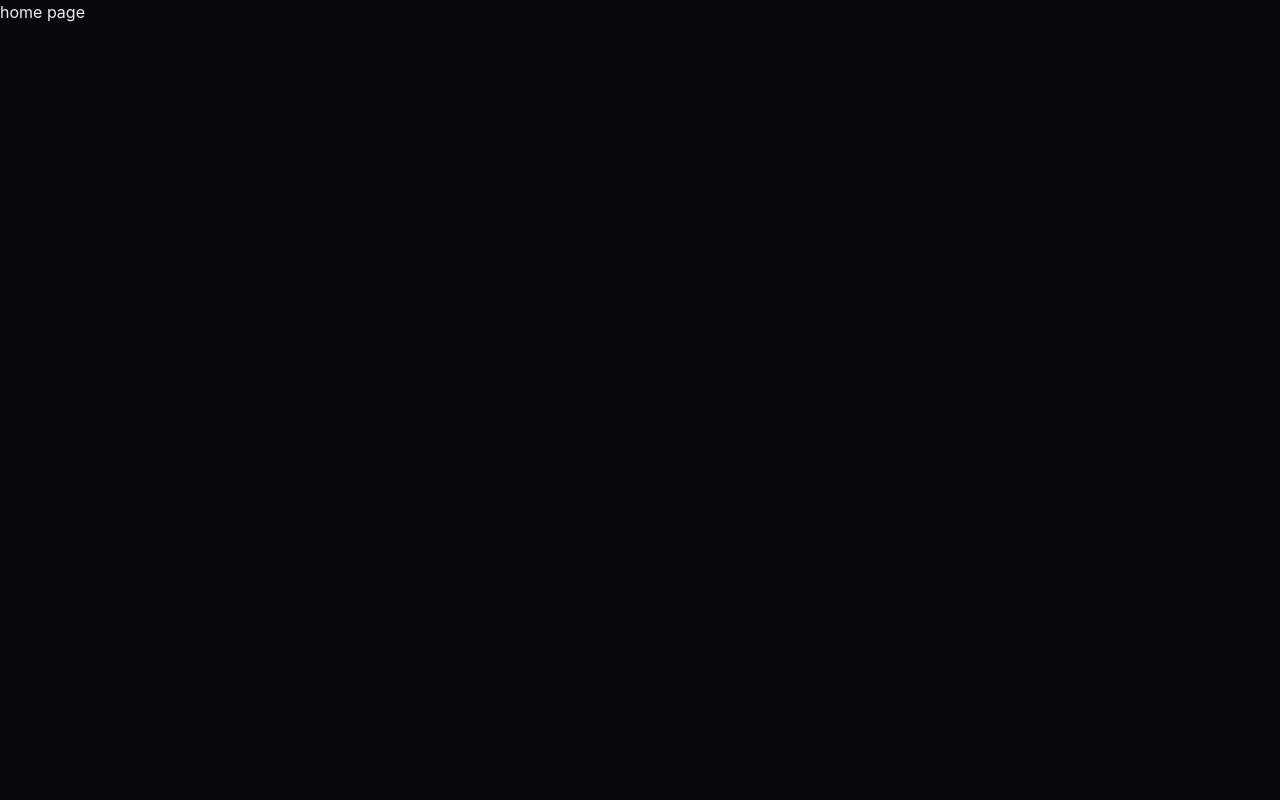
Test: CommandPalette › filters commands and navigates to the chosen page, then closes
Press k
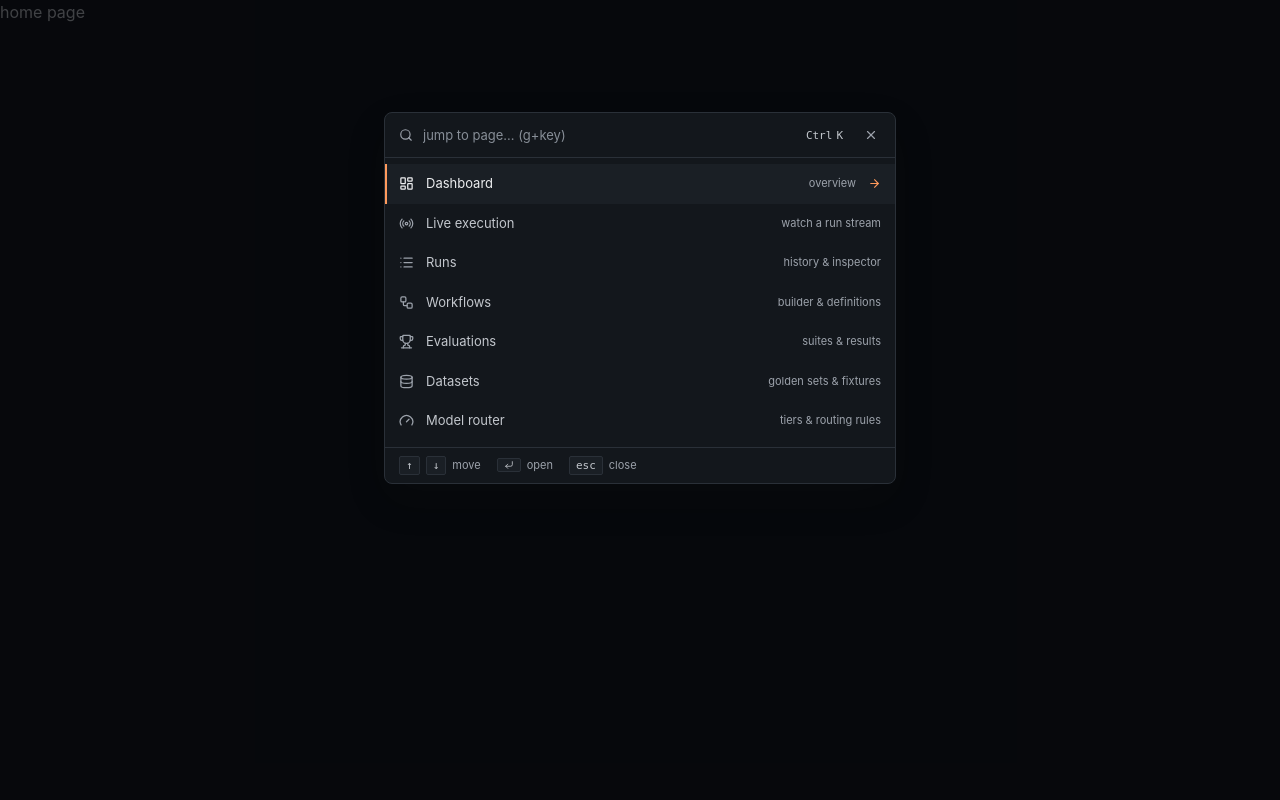
Type "workfl" into the field named "Search commands" at [609, 135], box [423,113,796,157]
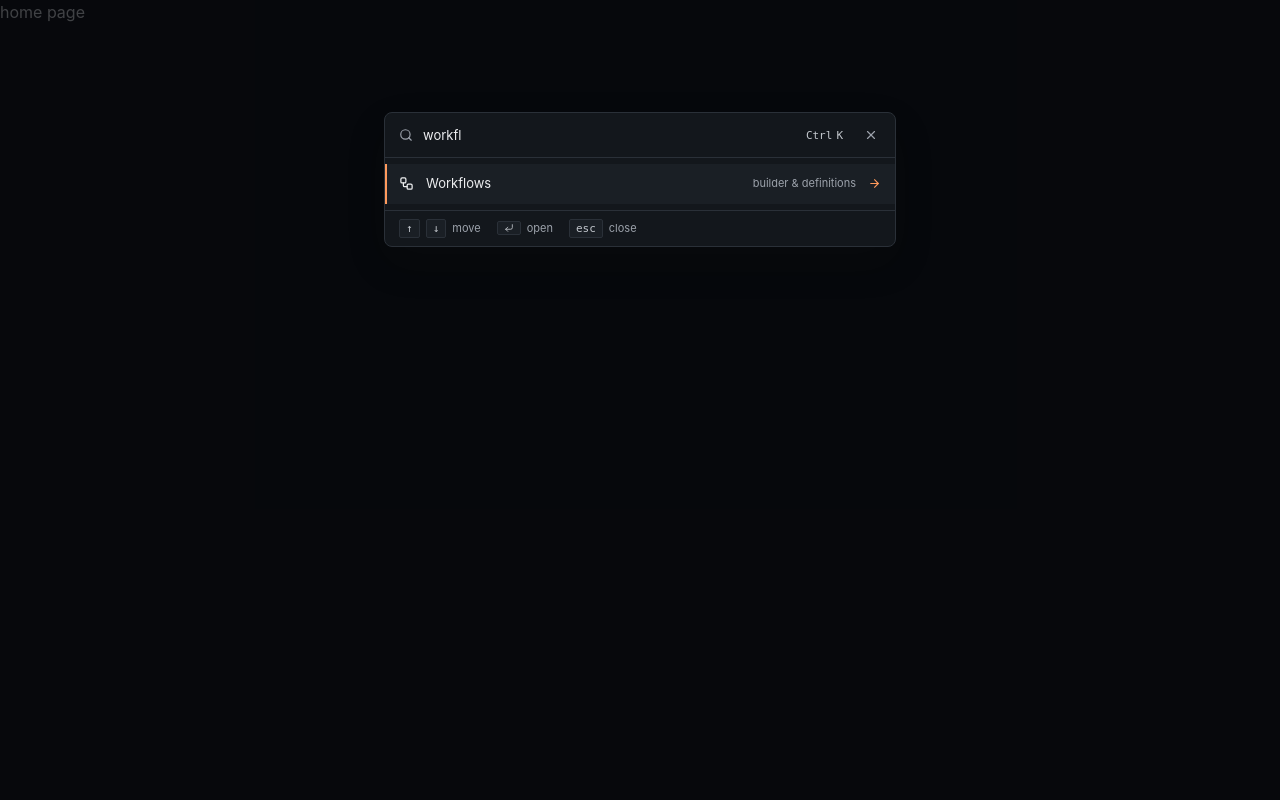
Click the option "Workflows builder & definitions" at [459, 183], box [385,164,895,204]
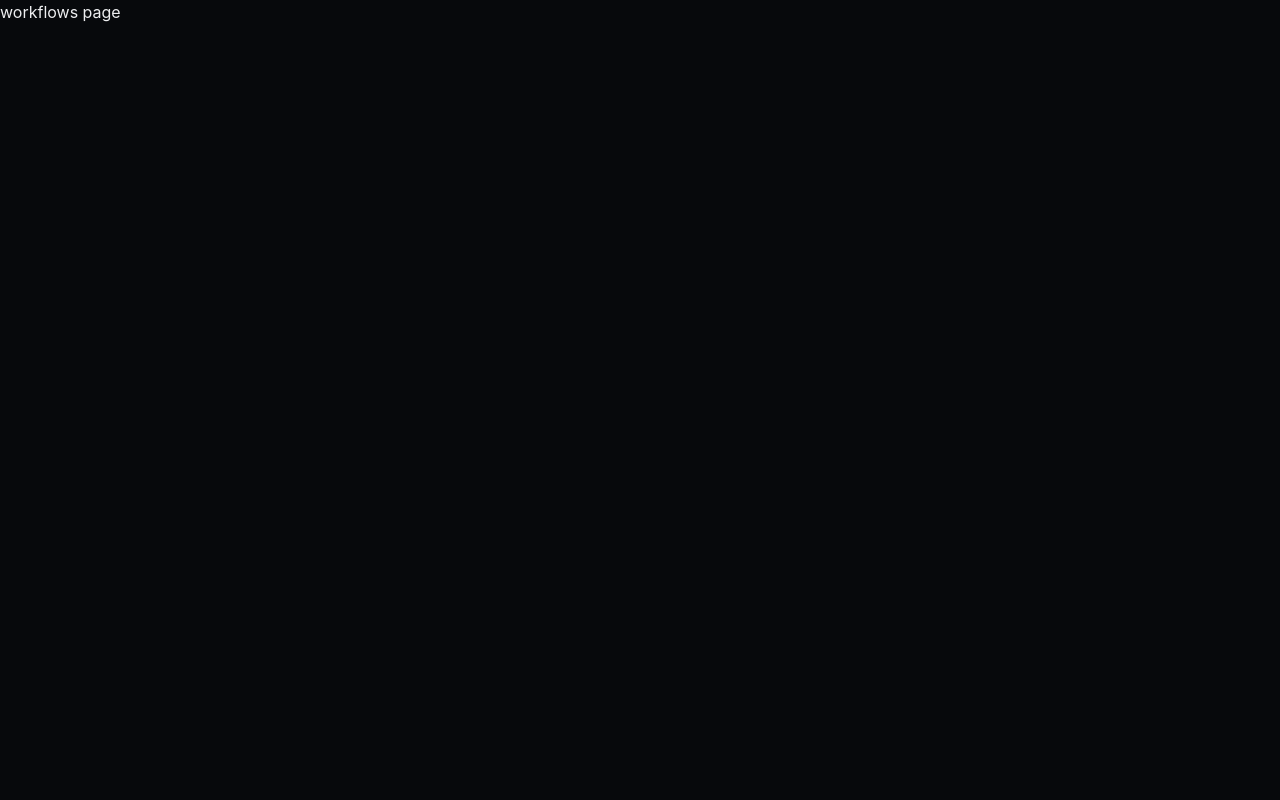
Check: the text "workflows page" is shown, box [0,2,121,22]
Check: the dialog is gone
